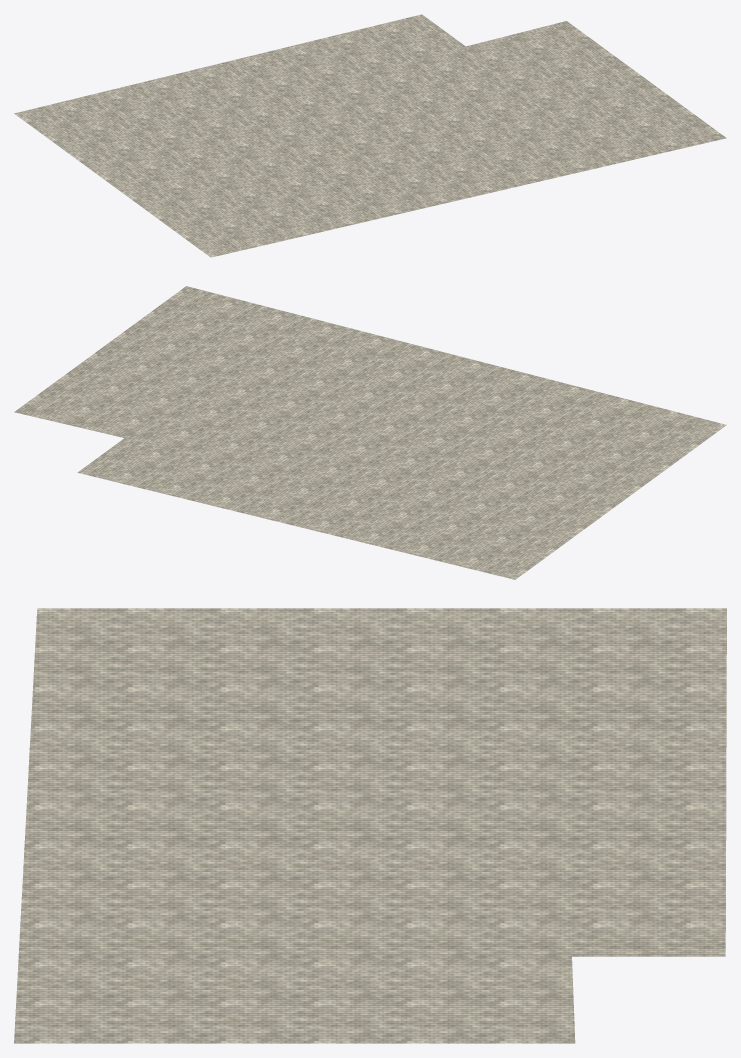
File: SM_Molo_Pav_Masselli_03.fbx
3 renders of one model, top to bottom at view 1: azimuth 30°, elevation 25°; view 2: azimuth 150°, elevation 25°; view 3: azimuth 270°, elevation 25°, orthographic. The views are drawn at different scales.
Parts seen in each view (by area): view 1: SM_Molo_Pav_Masselli_03; view 2: SM_Molo_Pav_Masselli_03; view 3: SM_Molo_Pav_Masselli_03.
Boxes of the visible parts, x1,y1,x2,y2 form: SM_Molo_Pav_Masselli_03: [14, 14, 726, 257]; SM_Molo_Pav_Masselli_03: [14, 286, 726, 579]; SM_Molo_Pav_Masselli_03: [14, 608, 726, 1043].
Size of what is drawn, in the model's own units: 3100 by 2145 by 0.
Materials: 1 (1 with a texture image).
